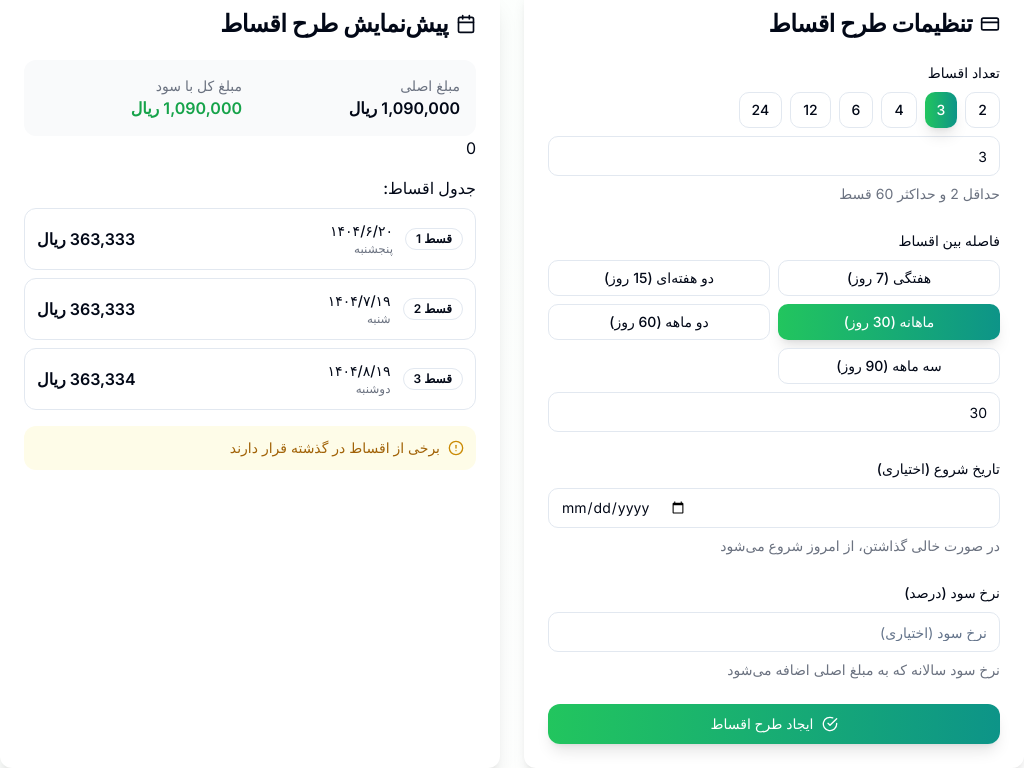
it: InstallmentPlanSetup › applies interest rate correctly
(page scrolled)
Note: Add 10% interest
Type "10" into the number field with placeholder "نرخ سود (اختیاری)" at (774, 632), box [548, 612, 1000, 652]
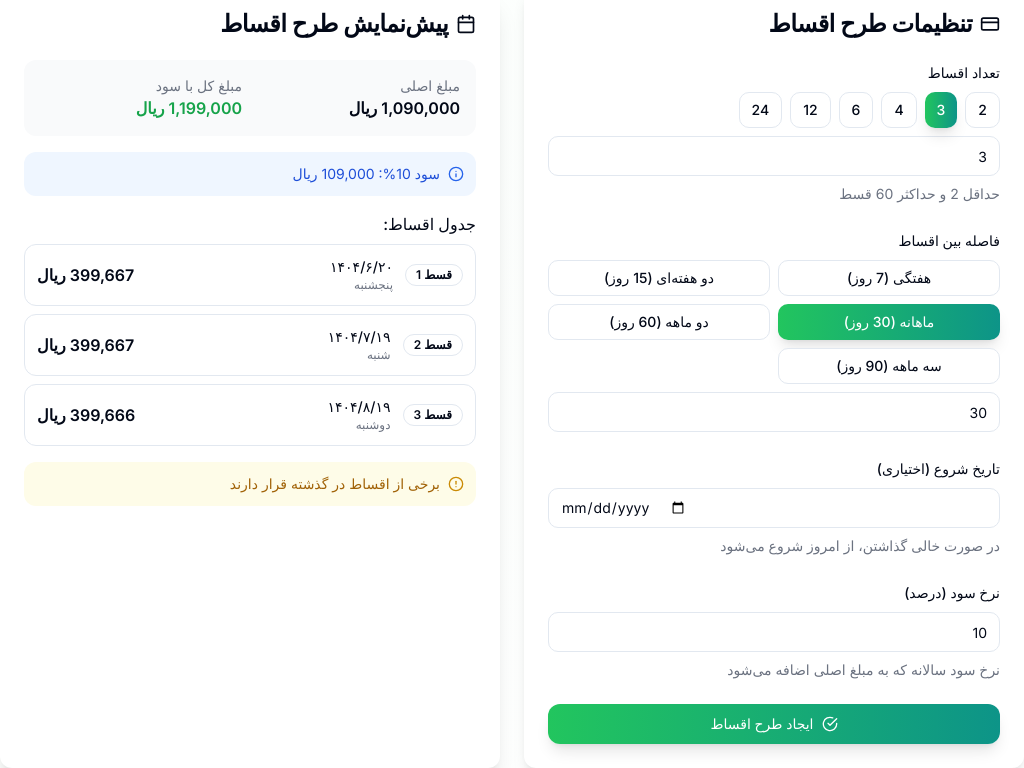
Expected: the text "1,199,000 ریال" is shown, [136, 98, 242, 118]
Expected: the text "سود 10%: 109,000 ریال" is shown, [292, 164, 440, 184]
